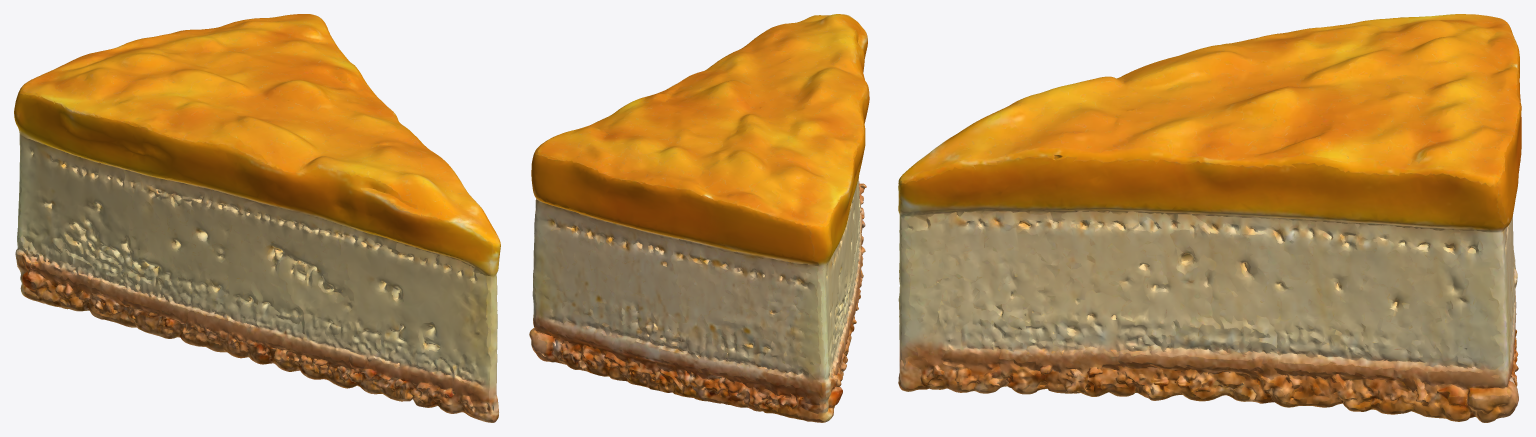
3 views of the same model, side by side, from view 1: azimuth 30°, elevation 25°; view 2: azimuth 150°, elevation 25°; view 3: azimuth 270°, elevation 25° (orthographic). The views are drawn at different scales.
Parts seen in each view (by area): view 1: FoodRedoV2Alignment-0; view 2: FoodRedoV2Alignment-0; view 3: FoodRedoV2Alignment-0.
Part boxes in pixels (bbox=[...]): FoodRedoV2Alignment-0: bbox=[14, 14, 500, 422]; FoodRedoV2Alignment-0: bbox=[529, 14, 869, 422]; FoodRedoV2Alignment-0: bbox=[898, 14, 1521, 422].
Size of the model in its own units: 0.1 by 0.074 by 0.1501.
1 material, 1 textured.
